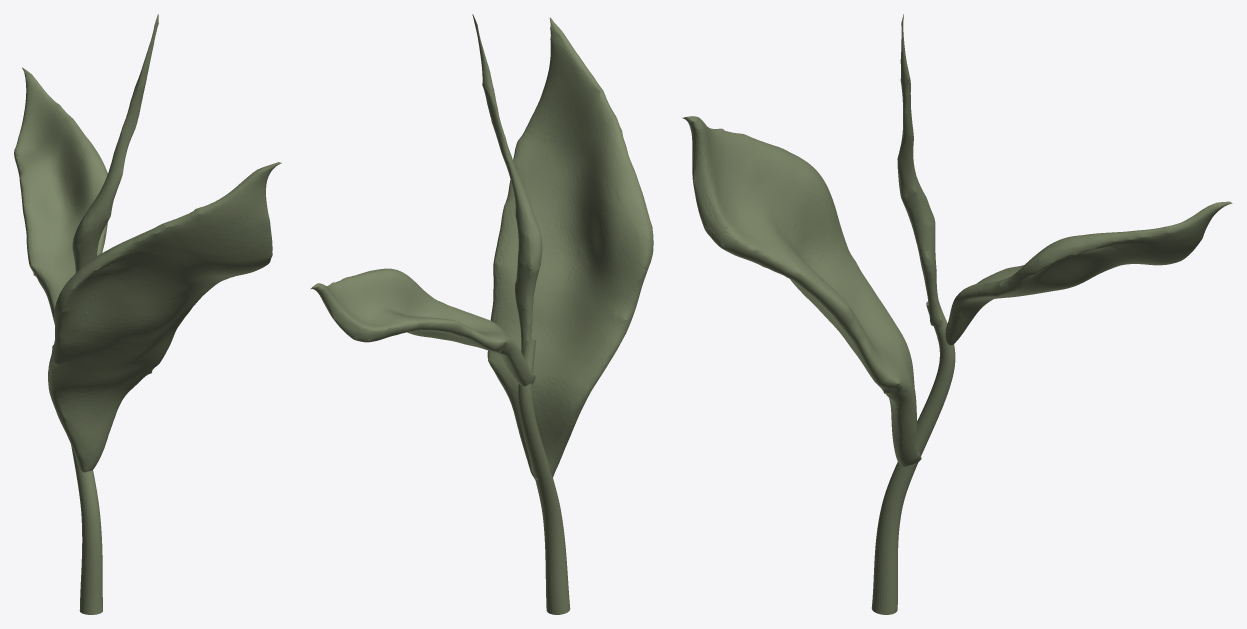
File: tea.glb
The picture shows the model from 3 angles, left to right: view 1: azimuth 30°, elevation 25°; view 2: azimuth 150°, elevation 25°; view 3: azimuth 270°, elevation 25°; orthographic projection. The views are drawn at different scales.
Visible parts, largest first — view 1: Tube; view 2: Tube; view 3: Tube.
Boxes of the visible parts, x1,y1,x2,y2 form: Tube: (14, 14, 281, 614); Tube: (310, 14, 653, 614); Tube: (682, 14, 1232, 614).
Size of the model in its own units: 0.2036 by 0.656 by 0.5138.
